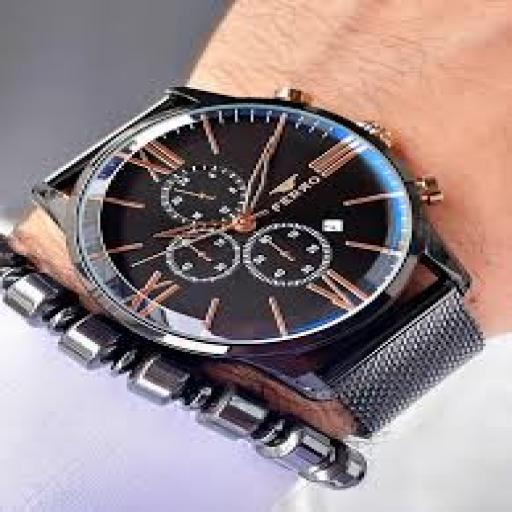KolSaati: (10, 73, 478, 424)
